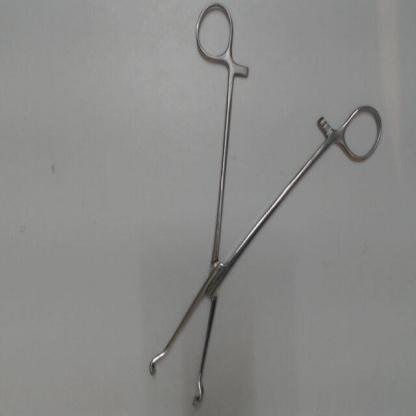8 Babcock Tissue Forceps: (141, 4, 387, 412)
